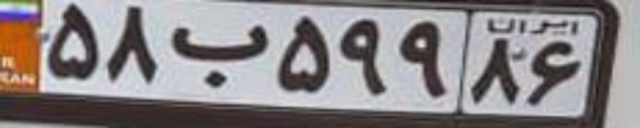5: (277, 15, 329, 91), (50, 2, 96, 79)
6: (526, 41, 580, 105)
8: (106, 6, 159, 84), (469, 38, 519, 104)
9: (401, 22, 447, 97), (340, 18, 385, 94)
be: (165, 23, 267, 87)
